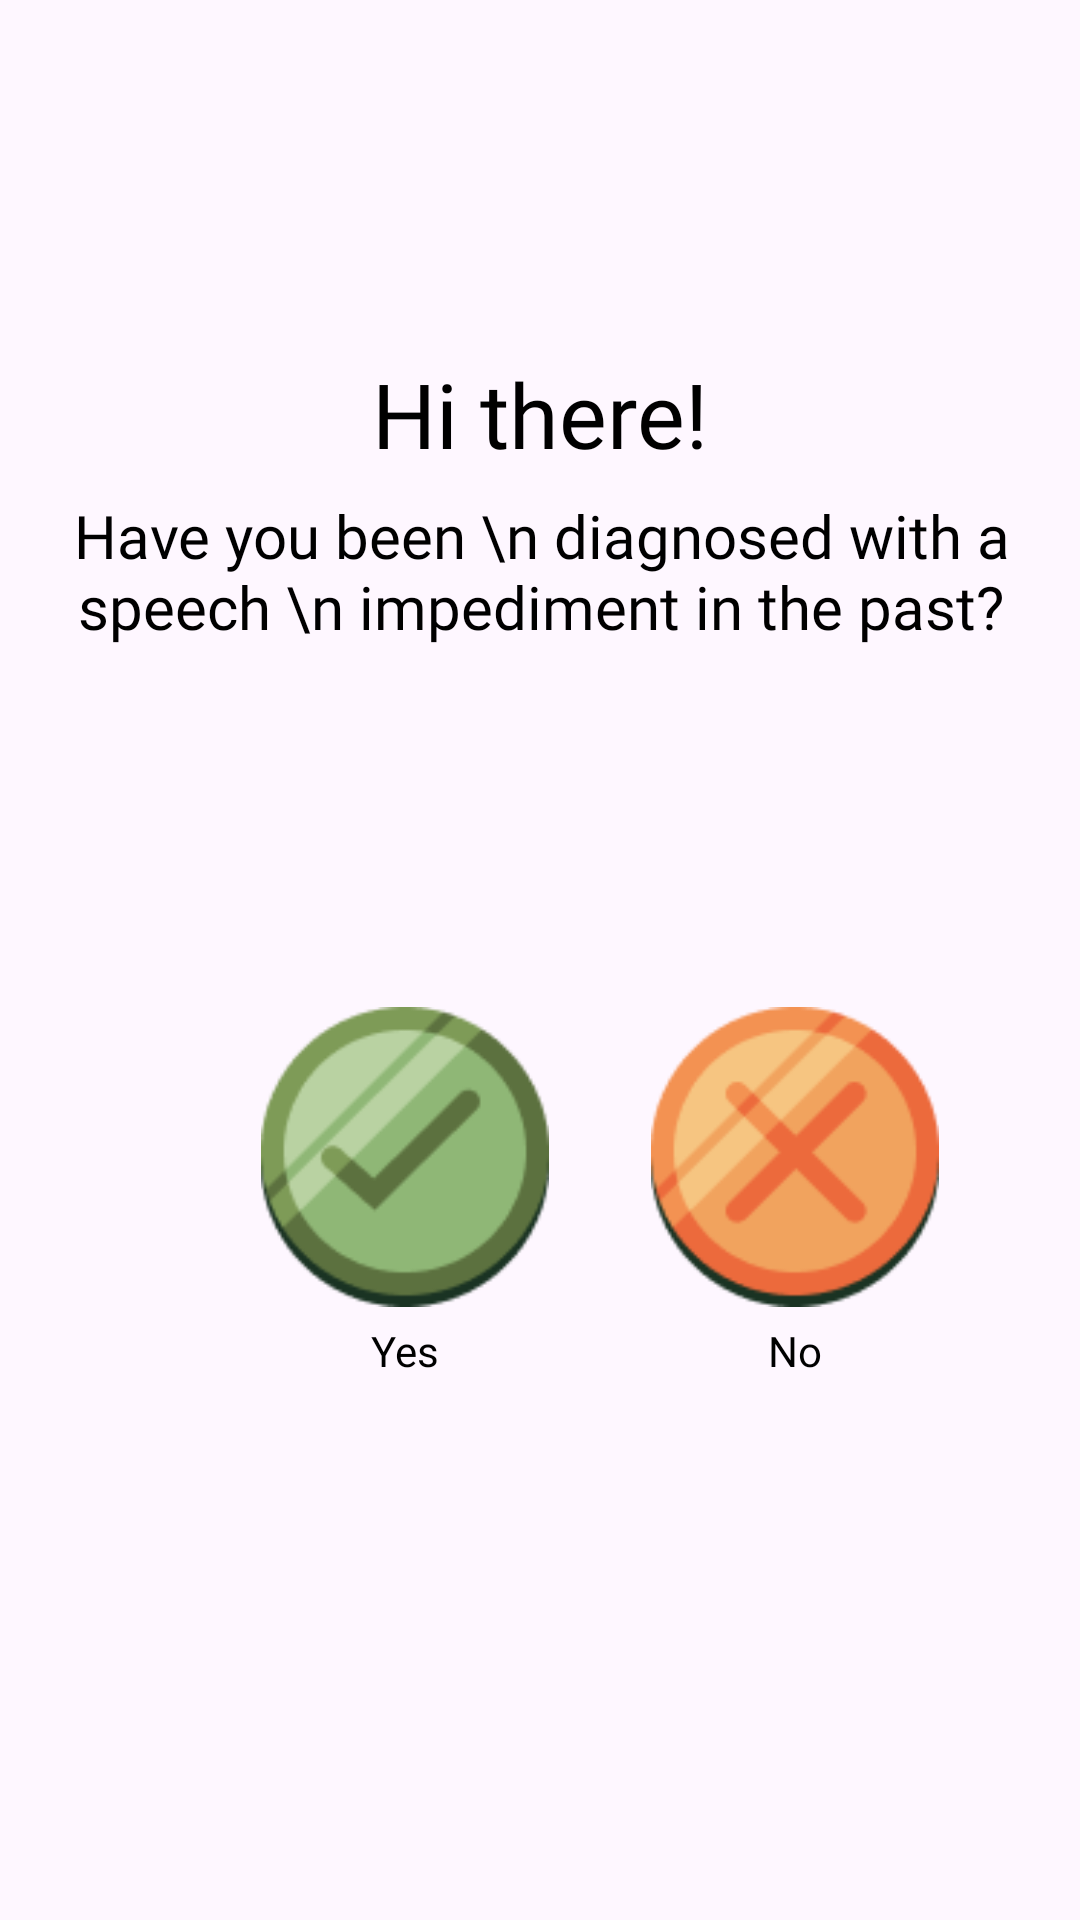

Icons on this 1080x1920 Android screen, each with its box as (x1, y1, x2, y2):
rightimg: (261, 1007, 549, 1307)
